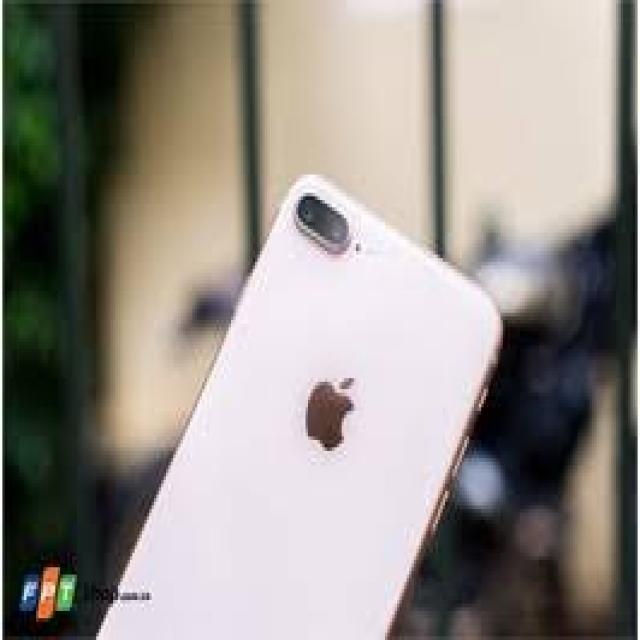mobile phone: (86, 168, 502, 636)
